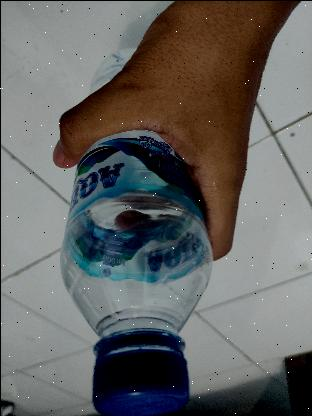Plastic Bottle: (55, 47, 212, 416)
